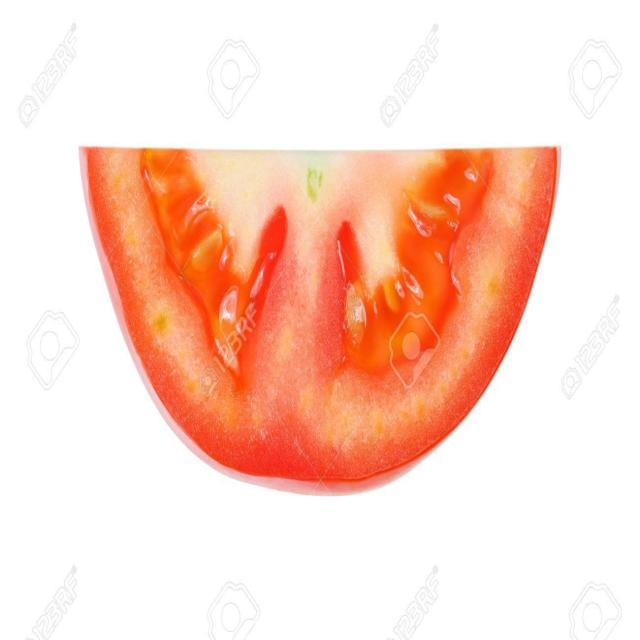Tomato: (76, 143, 566, 503)
